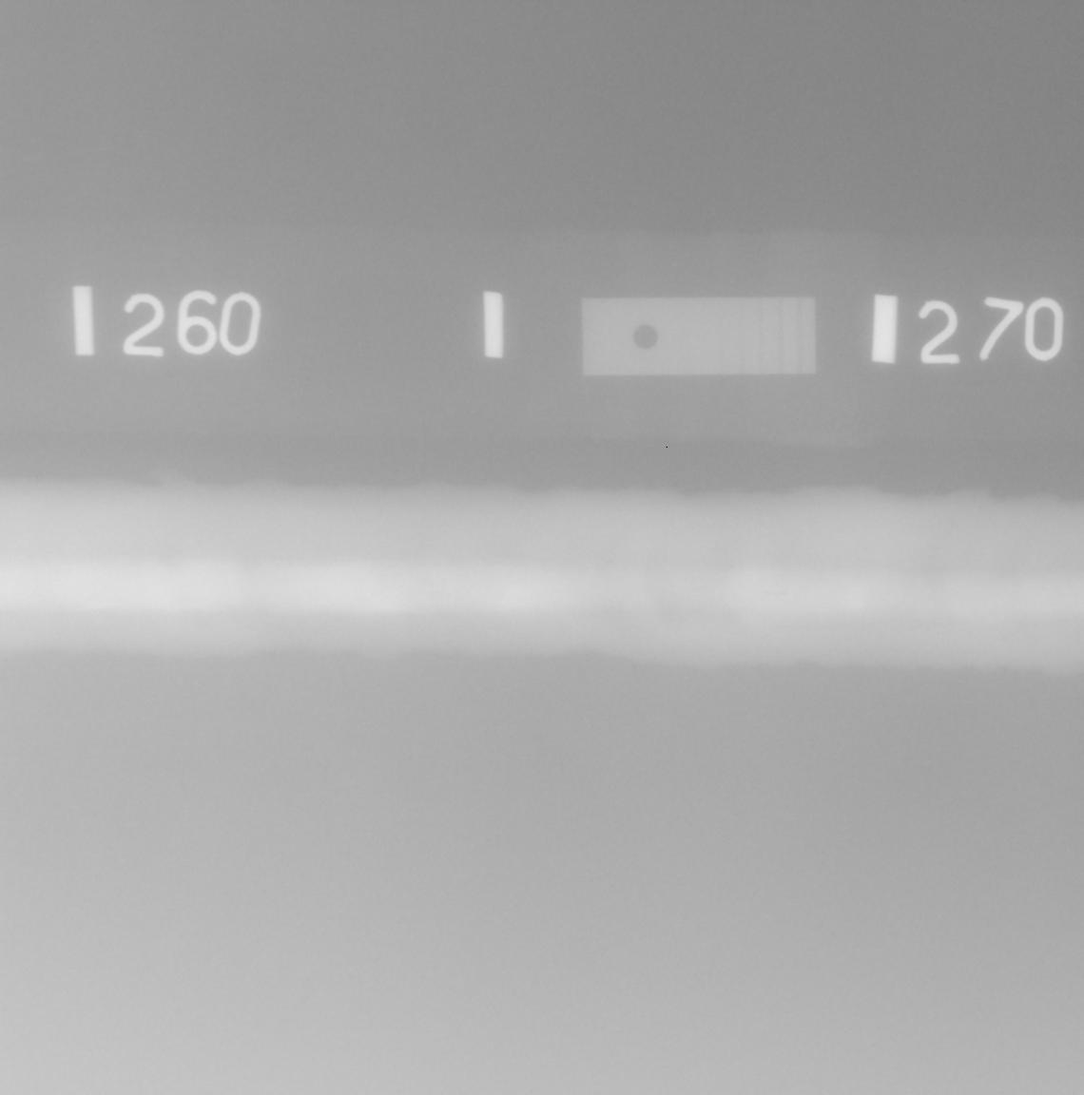Incomplete Root Penetration: (765, 592, 782, 595)
Reference Standard 1: (582, 297, 817, 375)
